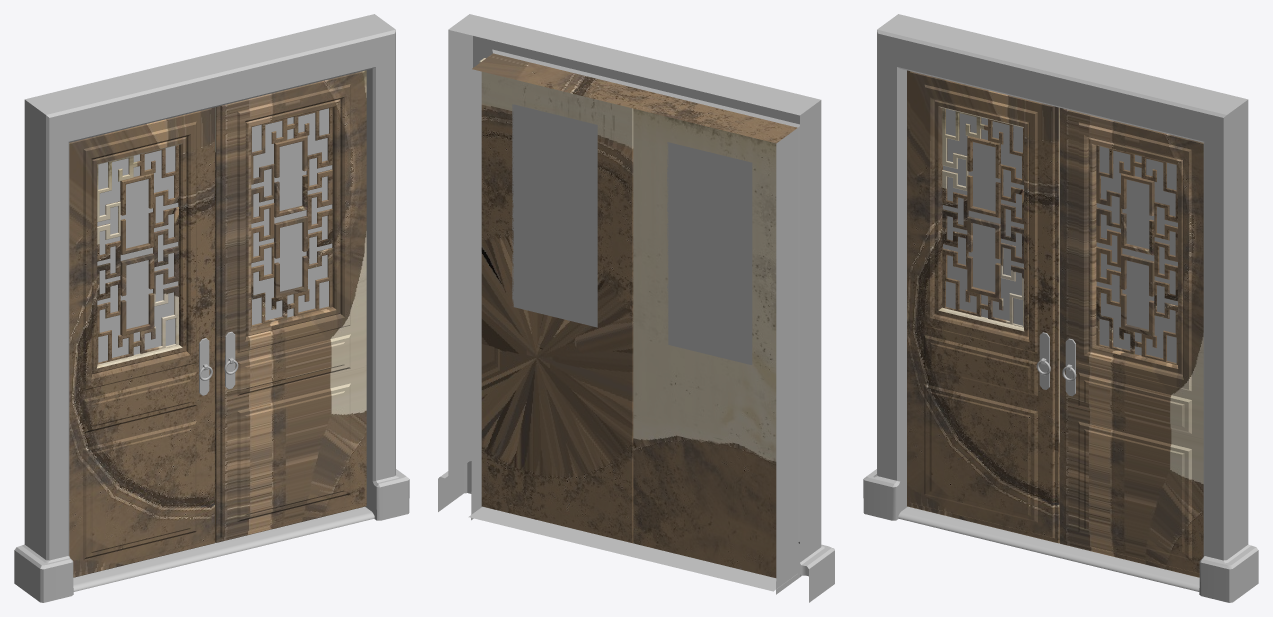
The model's file is ChineseDoor1.fbx.
3 views of the same model, side by side, from view 1: azimuth 30°, elevation 25°; view 2: azimuth 150°, elevation 25°; view 3: azimuth 330°, elevation 25° (orthographic).
Parts seen in each view (by area): view 1: Frame.001, Door1, Door, glass1, pCube57, Frame.002, pCube30, pCube34, pCube56, pCube51, pCube32, pCube54 (+14 smaller); view 2: Door1, Frame.001, Door, glass1, Frame, pCube57, Frame.002; view 3: Frame.001, Door, Door1, glass1, pCube57, Frame.002, pCube54, pCube32, pCube52, pCube35, pCube30, pCube31 (+14 smaller).
Part boxes in pixels (x1,y1,x2,y2): Frame.001: (24,14,395,560); Door1: (215,70,366,542); Door: (69,107,214,577); glass1: (97,108,332,362); pCube57: (73,506,374,591); Frame.002: (14,469,409,602); pCube30: (290,226,332,316); pCube34: (290,107,332,190); pCube56: (137,264,178,353); pCube51: (137,145,178,227); pCube32: (251,242,290,326); pCube54: (97,279,137,364); Door1: (479,58,633,543); Frame.001: (448,14,821,562); Door: (633,108,776,577); glass1: (512,104,752,364); Frame: (472,53,797,143); pCube57: (468,506,800,591); Frame.002: (438,461,834,602); Frame.001: (877,14,1248,560); Door: (907,70,1059,543); Door1: (1060,108,1203,577); glass1: (943,109,1177,362); pCube57: (898,506,1199,591); Frame.002: (863,469,1258,602); pCube54: (942,227,984,316); pCube32: (1096,264,1137,354); pCube52: (942,108,984,190); pCube35: (1096,145,1137,228); pCube30: (1137,280,1177,364); pCube31: (1121,173,1154,255).
Size of the model in its own units: 160 by 200 by 22.46.
